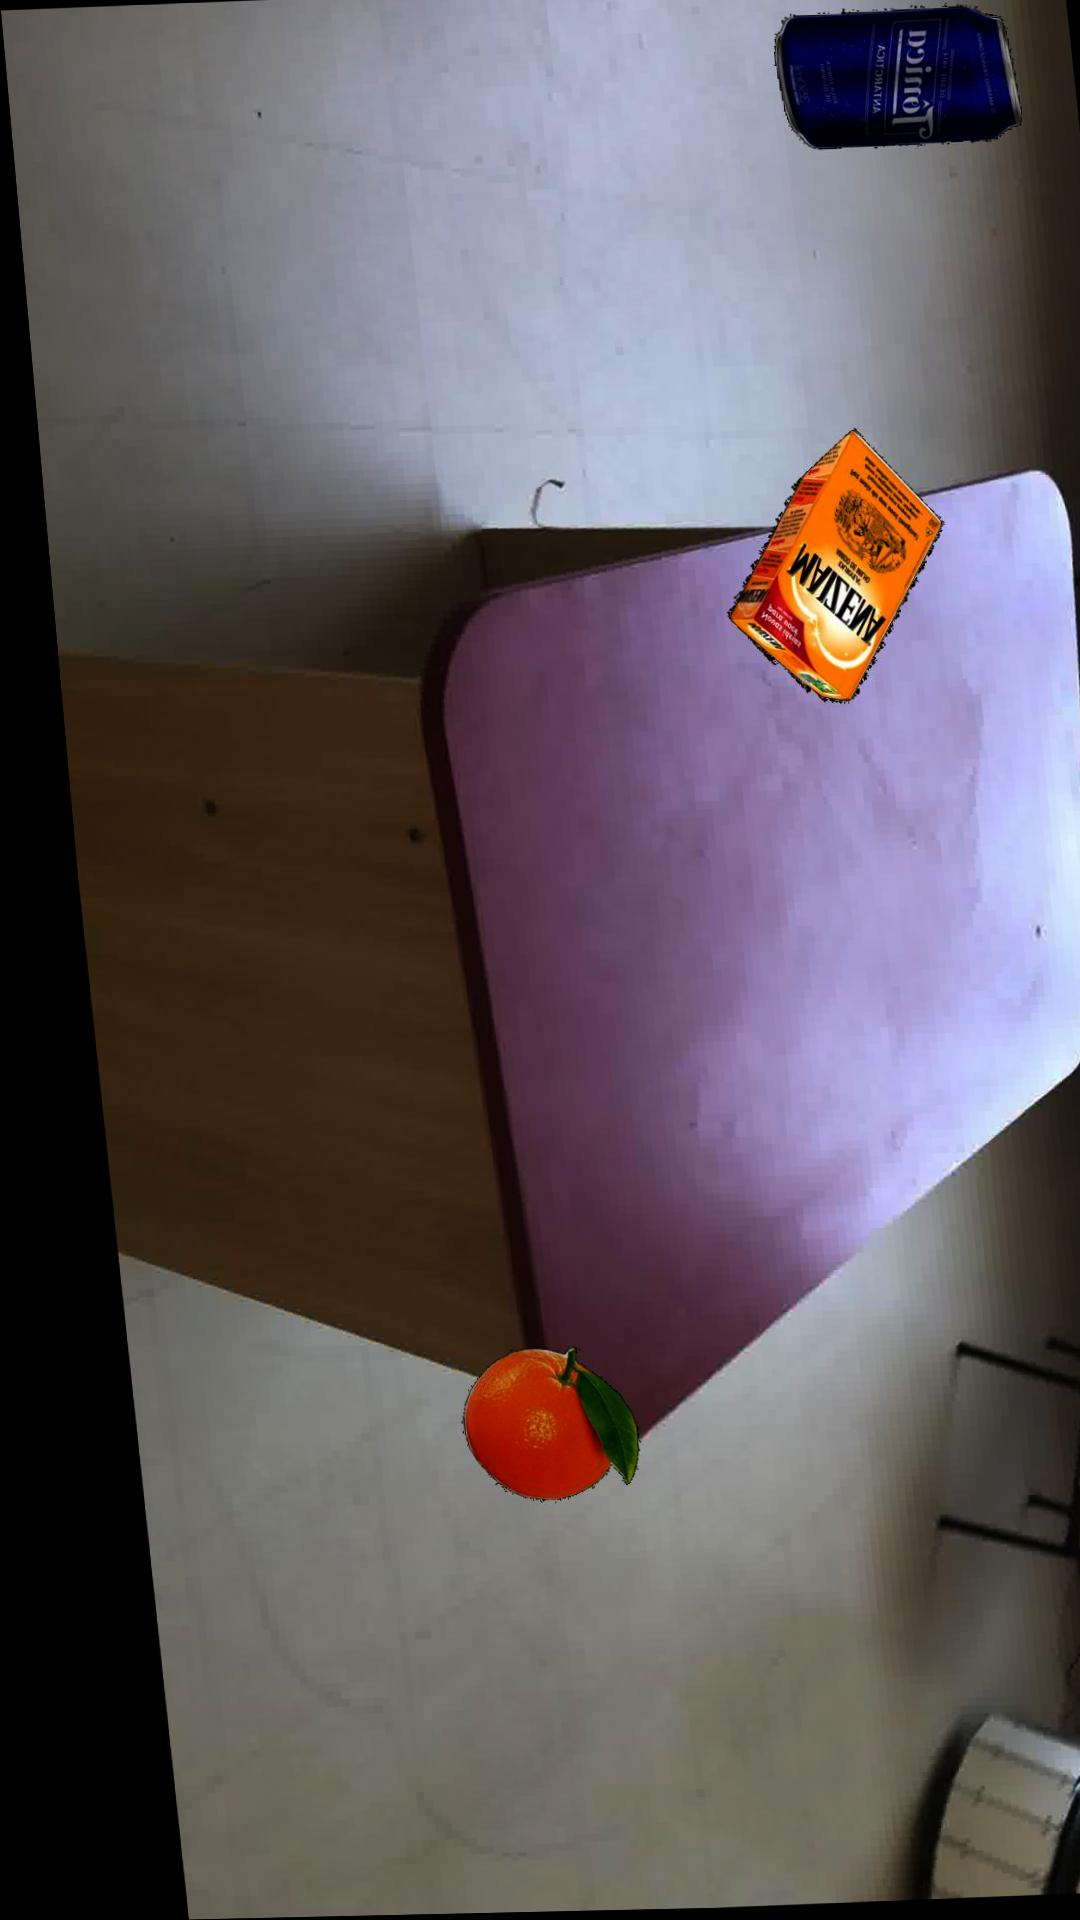orange: (433, 1346, 609, 1501)
tonic: (770, 8, 1015, 150)
